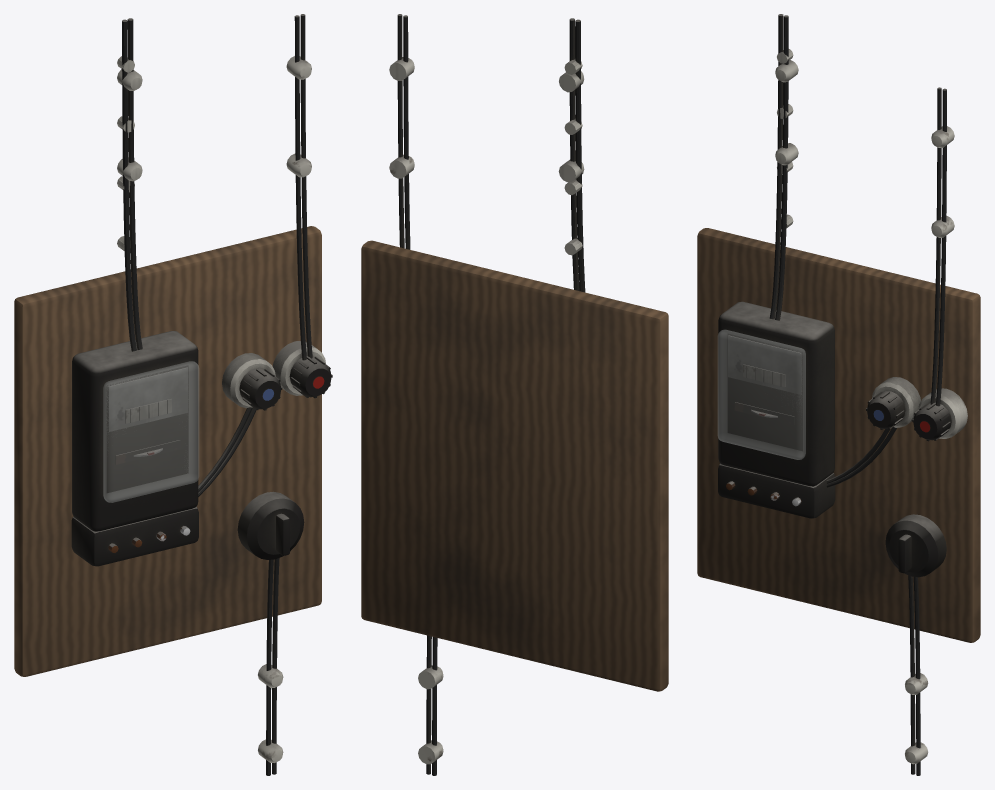
The model's file is SM_ElectricMeter_Panel.fbx.
The picture shows the model from 3 angles, left to right: view 1: azimuth 30°, elevation 25°; view 2: azimuth 150°, elevation 25°; view 3: azimuth 330°, elevation 25°; orthographic projection. The views are drawn at different scales.
Visible parts, largest first — view 1: SM_ElectricMeter_Panel; view 2: SM_ElectricMeter_Panel; view 3: SM_ElectricMeter_Panel.
Boxes of the visible parts, <box> form: SM_ElectricMeter_Panel: <box>14,14,332,775</box>; SM_ElectricMeter_Panel: <box>361,14,668,775</box>; SM_ElectricMeter_Panel: <box>697,14,980,775</box>.
Bounding box in the file's own units: 0.42 × 1.05 × 0.102.
2 materials, 1 textured.
